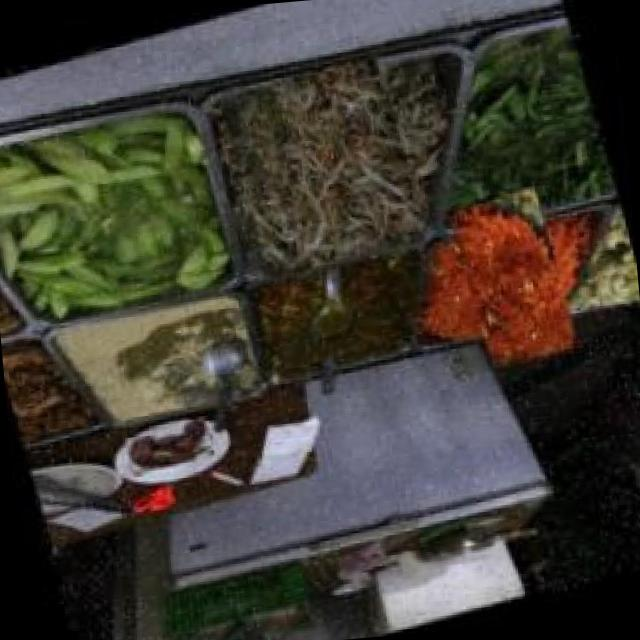carrot_eggs: (430, 196, 596, 360)
chinese_sausage: (124, 414, 218, 478)
curry: (248, 250, 412, 376)
mung_bean_sprouts: (210, 52, 438, 280)
